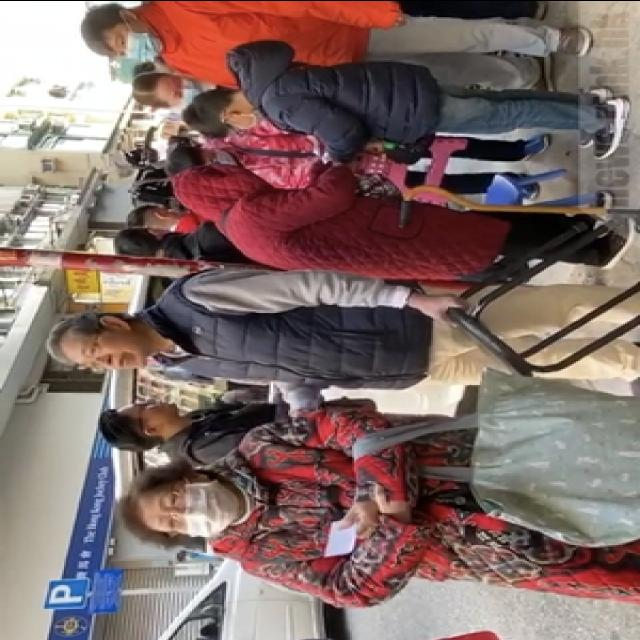mask: (149, 482, 239, 538), (109, 24, 158, 61), (164, 70, 200, 104)
no_mask: (72, 331, 142, 373), (128, 397, 186, 427)
